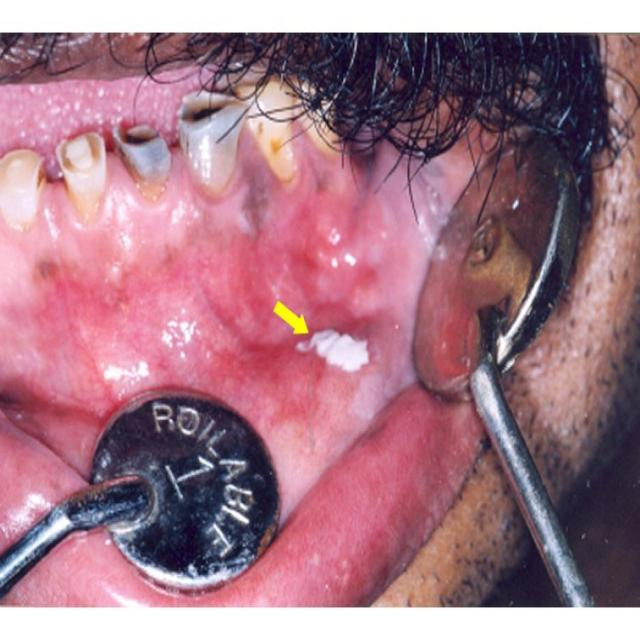leukoplakia-detection: (289, 175, 445, 424)
processing_area: (0, 74, 446, 552)
